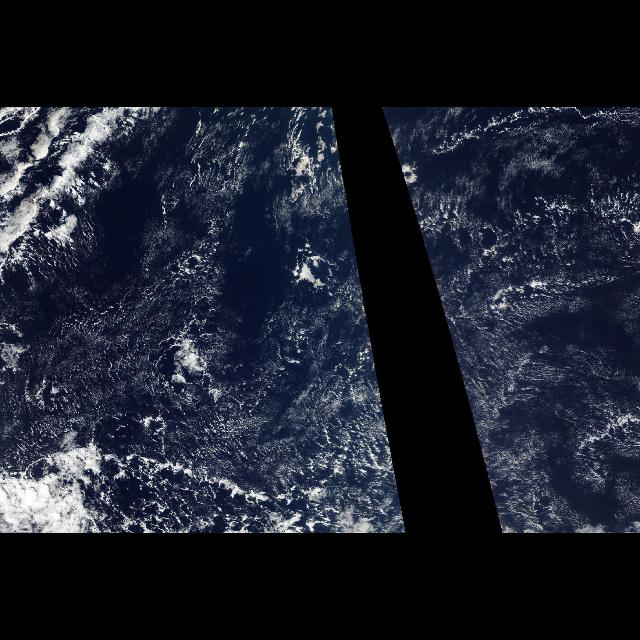Gravel: (7, 251, 409, 533)
Sugar: (434, 279, 640, 527), (314, 279, 406, 527)
